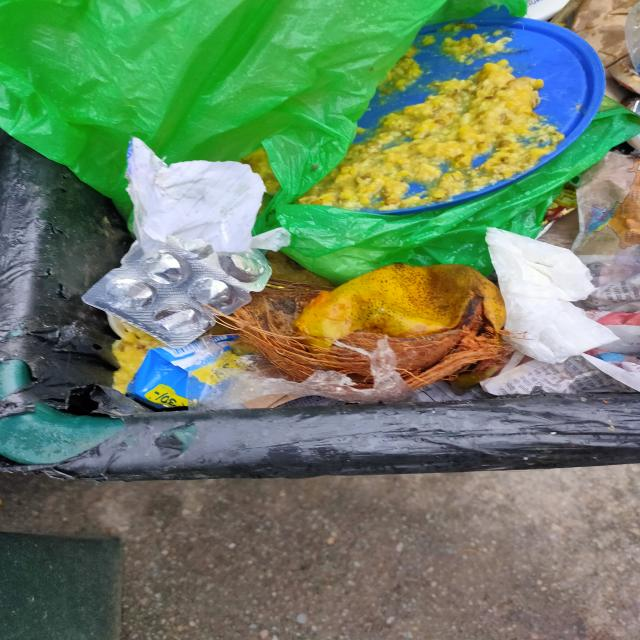B3: (32, 26, 355, 145), (83, 243, 255, 348), (488, 228, 604, 358), (132, 159, 264, 242), (137, 358, 214, 407)
